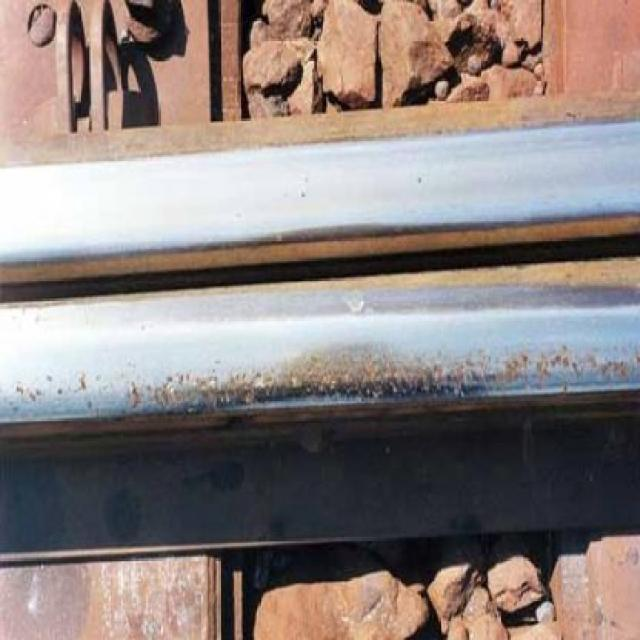defective: (4, 126, 626, 565)
